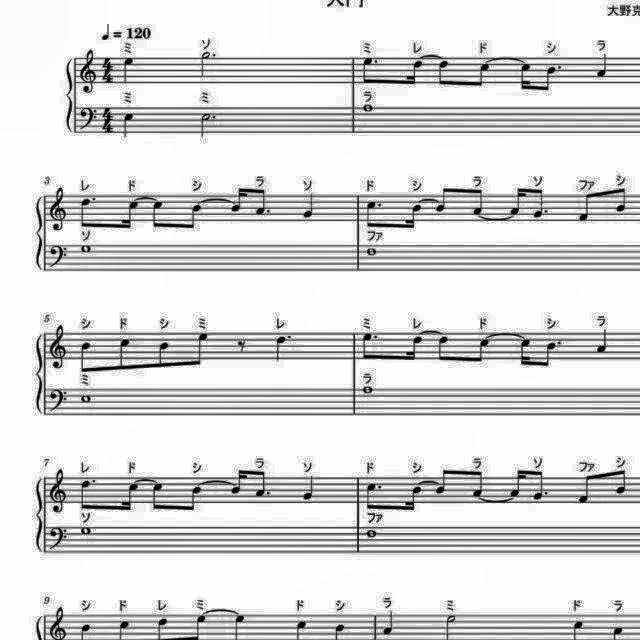Bass-clef: (46, 523, 70, 553), (48, 240, 72, 270), (48, 383, 72, 413), (76, 104, 98, 132)
Eighth-note: (185, 330, 211, 372), (540, 338, 566, 374), (78, 193, 102, 230), (115, 336, 136, 376), (252, 184, 276, 218), (538, 63, 562, 97), (252, 466, 276, 499), (79, 476, 101, 512), (182, 482, 205, 516), (147, 195, 167, 233), (358, 331, 380, 365), (362, 478, 384, 512), (184, 200, 206, 234), (533, 188, 555, 222), (530, 468, 550, 504), (358, 54, 380, 86), (470, 334, 492, 366), (473, 60, 495, 92), (76, 339, 94, 377), (362, 195, 382, 229), (574, 191, 594, 225), (574, 473, 594, 507), (148, 478, 166, 514), (434, 56, 454, 88), (433, 334, 453, 366), (432, 466, 452, 498), (152, 340, 172, 372), (470, 187, 490, 217), (469, 469, 489, 499), (612, 185, 632, 215), (612, 468, 632, 498), (430, 188, 450, 216)
Eighth-rest: (234, 334, 250, 354)
Full-note: (362, 526, 380, 542), (358, 101, 378, 115), (77, 390, 95, 404), (359, 383, 377, 397), (79, 524, 97, 538), (79, 240, 93, 256), (362, 246, 380, 258)
Half-dot: (271, 332, 295, 363), (197, 110, 219, 142), (198, 49, 220, 80)
Half-note: (438, 614, 458, 640)
Quarter-note: (300, 190, 320, 220), (300, 473, 320, 502), (380, 610, 400, 638), (594, 328, 614, 356), (120, 54, 136, 86), (594, 52, 612, 80), (120, 109, 136, 139)
Sixteenth-note: (118, 196, 142, 234), (120, 479, 144, 517), (402, 200, 426, 234), (402, 334, 426, 366), (402, 484, 426, 516), (402, 57, 426, 89), (514, 334, 534, 372), (508, 184, 528, 220), (226, 468, 248, 500), (514, 60, 534, 94), (228, 184, 248, 216), (505, 468, 523, 500)
Treble-clef: (46, 323, 70, 372), (46, 186, 70, 234), (46, 468, 70, 516), (77, 47, 99, 95)
